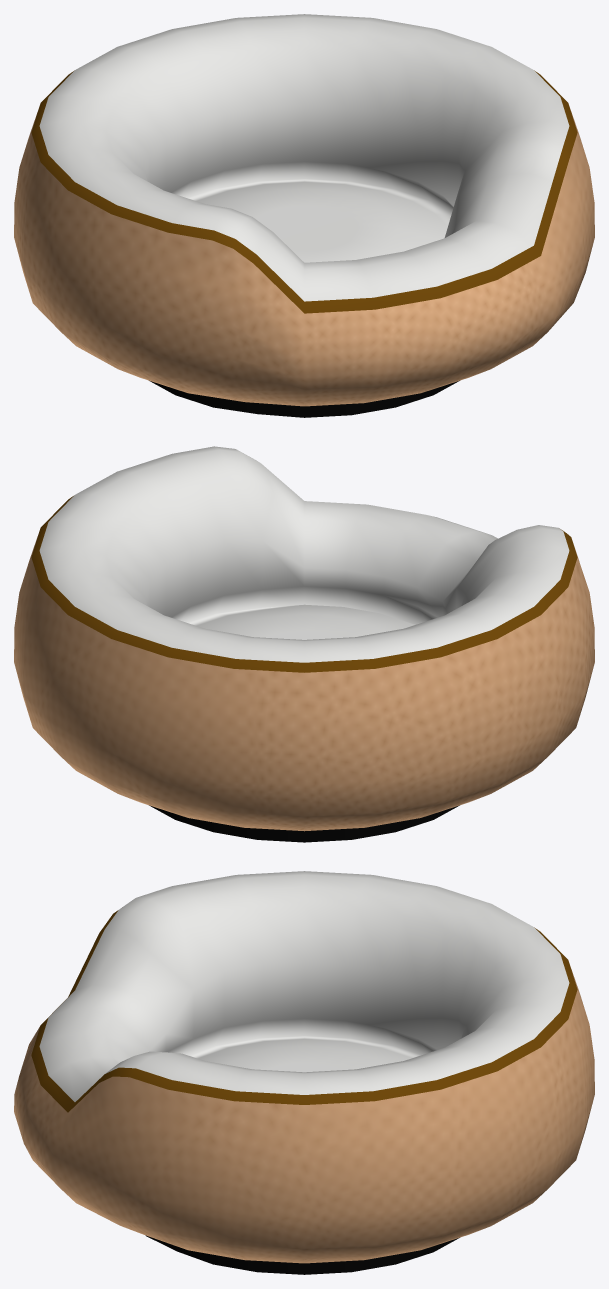
File: SM_Pillow_Checkin_Counter.fbx
3 views of the same model, one above another, from view 1: azimuth 30°, elevation 25°; view 2: azimuth 150°, elevation 25°; view 3: azimuth 270°, elevation 25° (orthographic).
Visible parts, largest first — view 1: SM_Pillow_Checkin_Counter; view 2: SM_Pillow_Checkin_Counter; view 3: SM_Pillow_Checkin_Counter.
Part boxes in pixels (x1=…): SM_Pillow_Checkin_Counter: x1=14, y1=14, x2=594, y2=417; SM_Pillow_Checkin_Counter: x1=14, y1=446, x2=594, y2=842; SM_Pillow_Checkin_Counter: x1=14, y1=871, x2=594, y2=1274.
Size of the model in its own units: 2.54 by 1.06 by 2.54.
